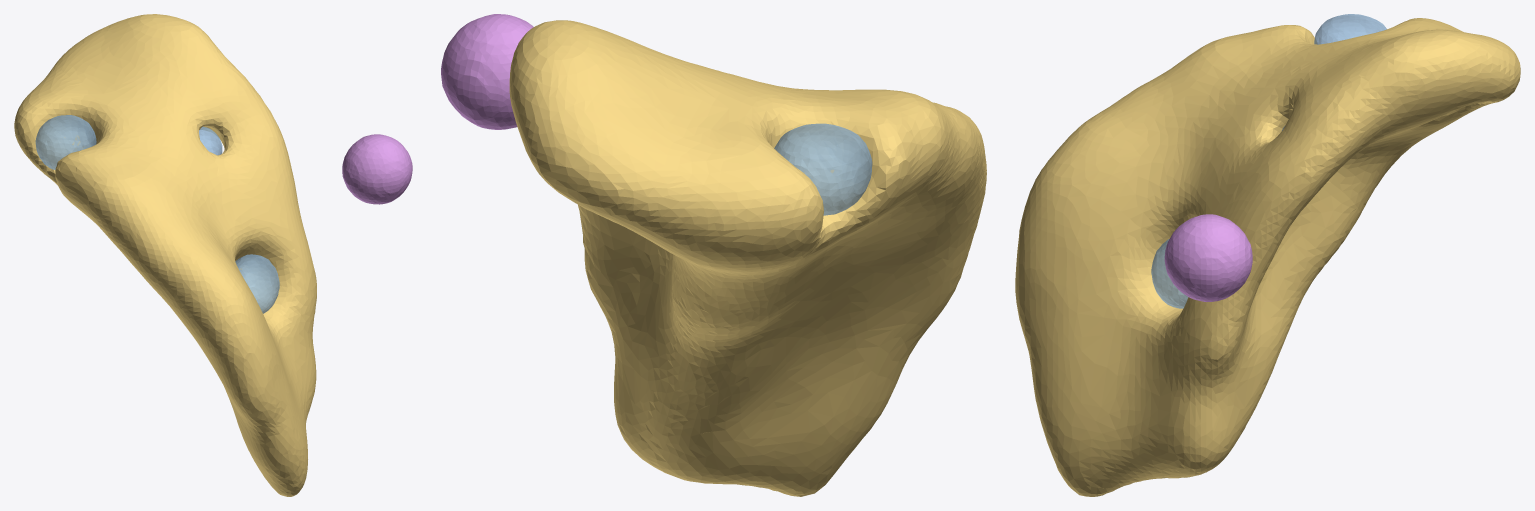
The model's file is prompt.glb.
3 views of the same model, side by side, from view 1: azimuth 30°, elevation 25°; view 2: azimuth 150°, elevation 25°; view 3: azimuth 270°, elevation 25° (orthographic). The views are drawn at different scales.
Parts seen in each view (by area): view 1: world; view 2: world; view 3: world.
Boxes of the visible parts, left/top/right/bottom form: world: left=14, top=14, right=412, bottom=496; world: left=441, top=14, right=986, bottom=496; world: left=1015, top=14, right=1520, bottom=496.
Bounding box in the file's own units: 0.6404 × 0.7297 × 0.7184.
